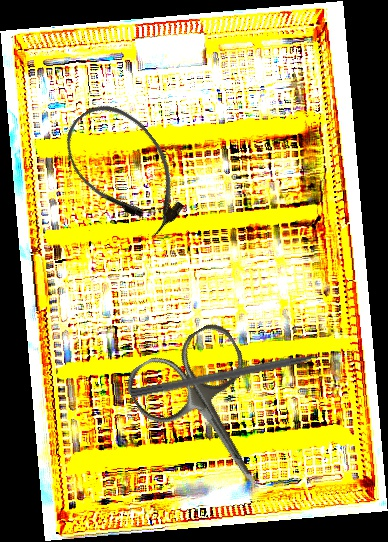Cannula: (50, 88, 202, 250)
Iris Scissors: (119, 317, 302, 513)
Pusher: (129, 347, 345, 401)
